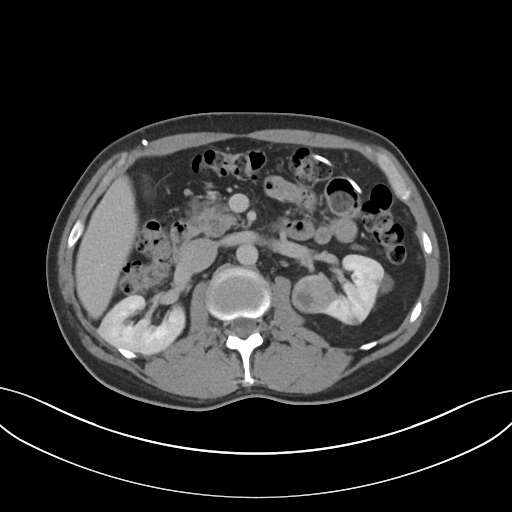Lesion: (288, 273, 339, 315)
